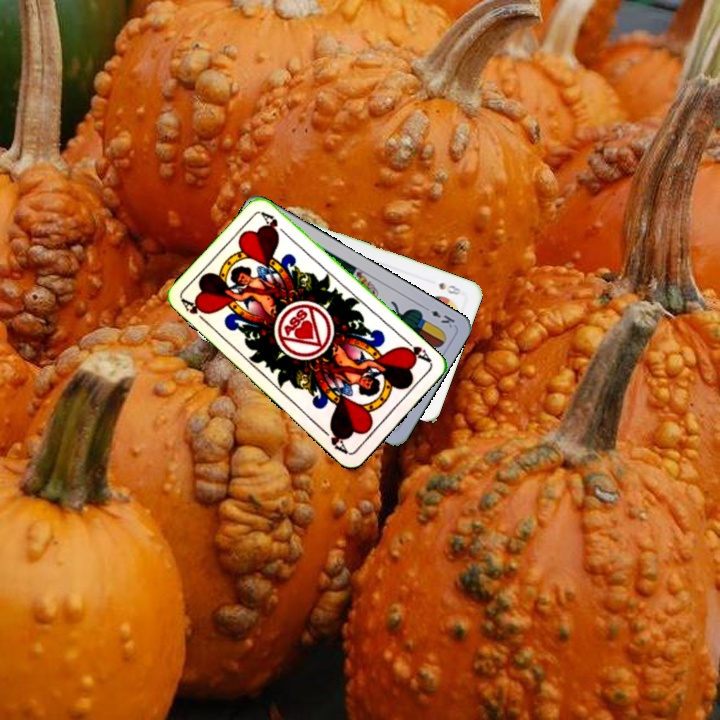EK: (419, 302, 457, 331)
HA: (398, 334, 435, 366), (178, 295, 212, 327)
S8: (435, 278, 463, 298)
